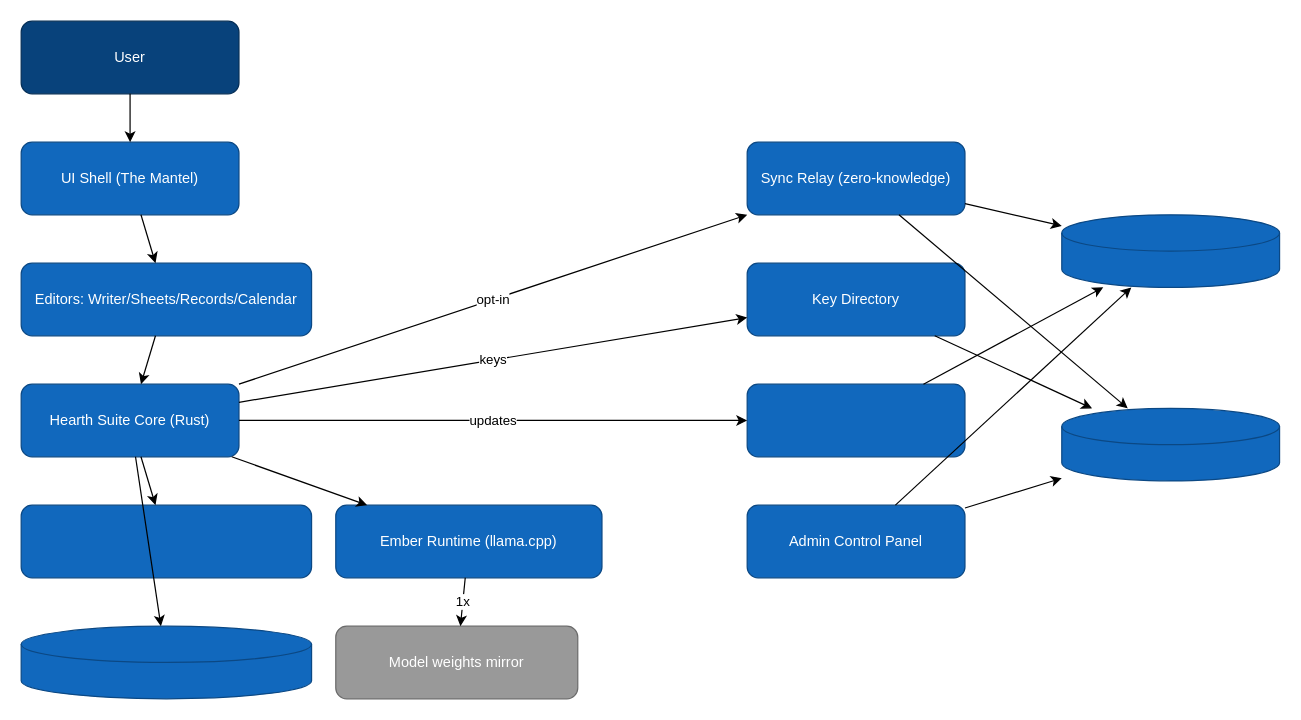
Some shapes in this 1301 by 720 pixel diagram are drawn without their labels. Each missing label, with the box of its shape:
Crypto (ML-KEM/ML-DSA/AES): (20, 504, 312, 578)
Encrypted Object Store: (1061, 214, 1280, 287)
Local Store (SQLite+vault): (20, 625, 312, 699)
Operational DB (Postgres): (1061, 407, 1280, 481)
Release/Update (TUF): (746, 383, 965, 457)
